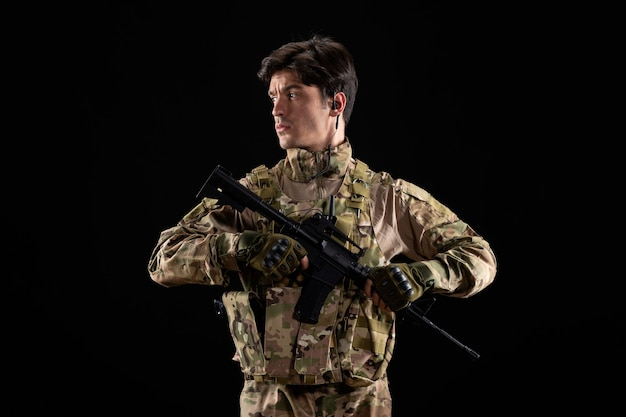gun: (196, 163, 482, 363)
